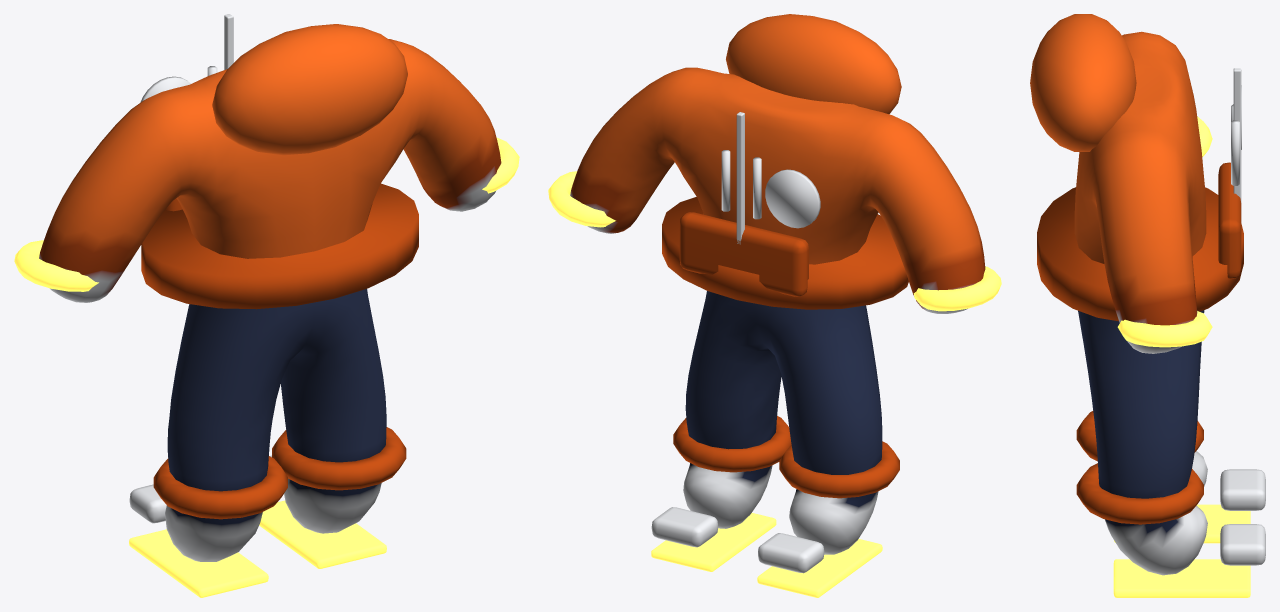
The model's file is avatar_orange_corps.glb.
The picture shows the model from 3 angles, left to right: view 1: azimuth 30°, elevation 25°; view 2: azimuth 150°, elevation 25°; view 3: azimuth 270°, elevation 25°; orthographic projection. The views are drawn at different scales.
Visible parts, largest first — view 1: Corps, Capuche, Ourlet, Revers-1, Revers1, Semelle-1, Semelle1, Poignet-1, Bout-1, Poignet1; view 2: Corps, Capuche, Ourlet, Poche, Revers-1, Revers1, Semelle1, Semelle-1, Signe, Bout-1, Bout1, Poignet-1 (+3 smaller); view 3: Corps, Capuche, Ourlet, Semelle1, Revers1, Poche, Poignet1, Bout1, Bout-1, Semelle-1, Revers-1, Zip (+2 smaller).
Part boxes in pixels (x1,y1,x2,y2): Corps: (39, 39, 501, 561); Capuche: (212, 24, 407, 155); Ourlet: (141, 183, 418, 309); Revers-1: (153, 456, 287, 519); Revers1: (272, 427, 406, 490); Semelle-1: (129, 529, 268, 597); Semelle1: (259, 500, 386, 568); Poignet-1: (14, 240, 98, 291); Bout-1: (129, 484, 166, 523); Poignet1: (482, 137, 519, 193); Corps: (570, 67, 985, 554); Capuche: (726, 14, 901, 114); Ourlet: (662, 197, 908, 309); Poche: (679, 212, 808, 296); Revers-1: (779, 441, 899, 498); Revers1: (673, 416, 791, 472); Semelle1: (651, 513, 776, 571); Semelle-1: (757, 539, 882, 597); Signe: (765, 169, 820, 228); Bout-1: (758, 533, 824, 573); Bout1: (651, 507, 717, 547); Poignet-1: (913, 266, 1001, 311); Corps: (1074, 31, 1207, 575); Capuche: (1030, 14, 1136, 151); Ourlet: (1037, 187, 1243, 321); Semelle1: (1113, 559, 1250, 597); Revers1: (1076, 463, 1203, 524); Poche: (1218, 162, 1241, 279); Poignet1: (1117, 311, 1212, 347); Bout1: (1220, 524, 1265, 565); Bout-1: (1220, 469, 1265, 510); Semelle-1: (1114, 504, 1250, 543); Revers-1: (1076, 411, 1203, 461); Zip: (1233, 68, 1241, 202).
Bounding box in the file's own units: 1.42 × 1.53 × 0.62.
